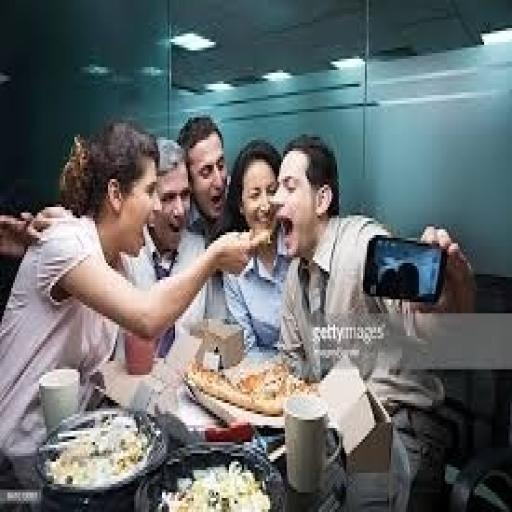eating: (2, 106, 476, 501)
